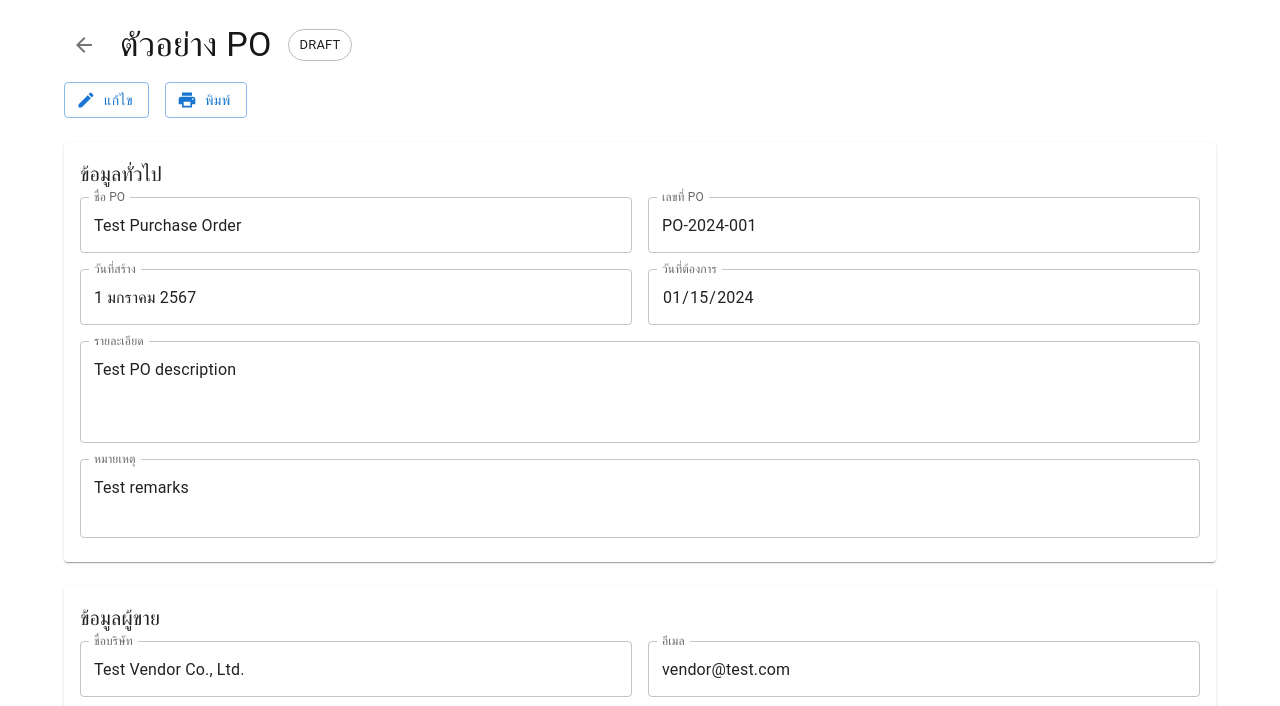
Scenario: POEditPreview Component › Edit Functionality › cancels edit mode and resets form
// Enter edit mode
Click the button "แก้ไข". click: (106,100)
box: [64,82,149,118]
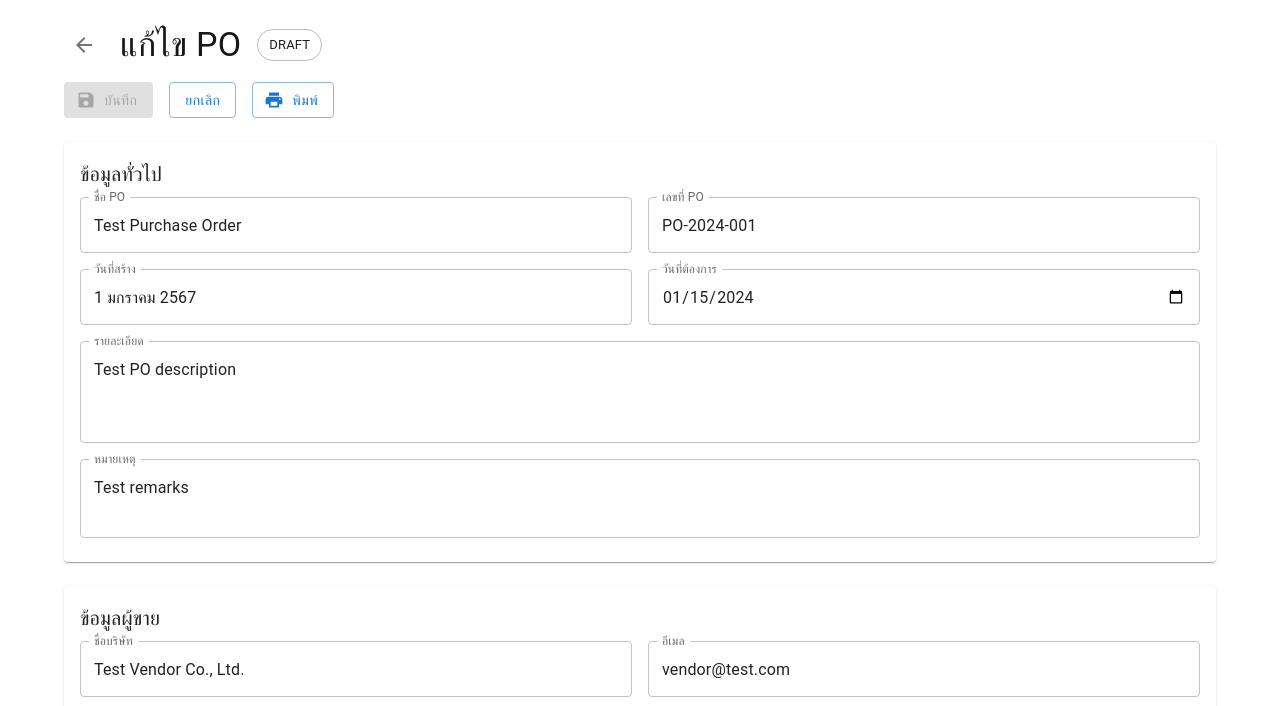
// Modify a field
Replace the text in the field showing "Test Purchase Order" with "Modified Title". click: (356,226)
box: [80,198,632,254]
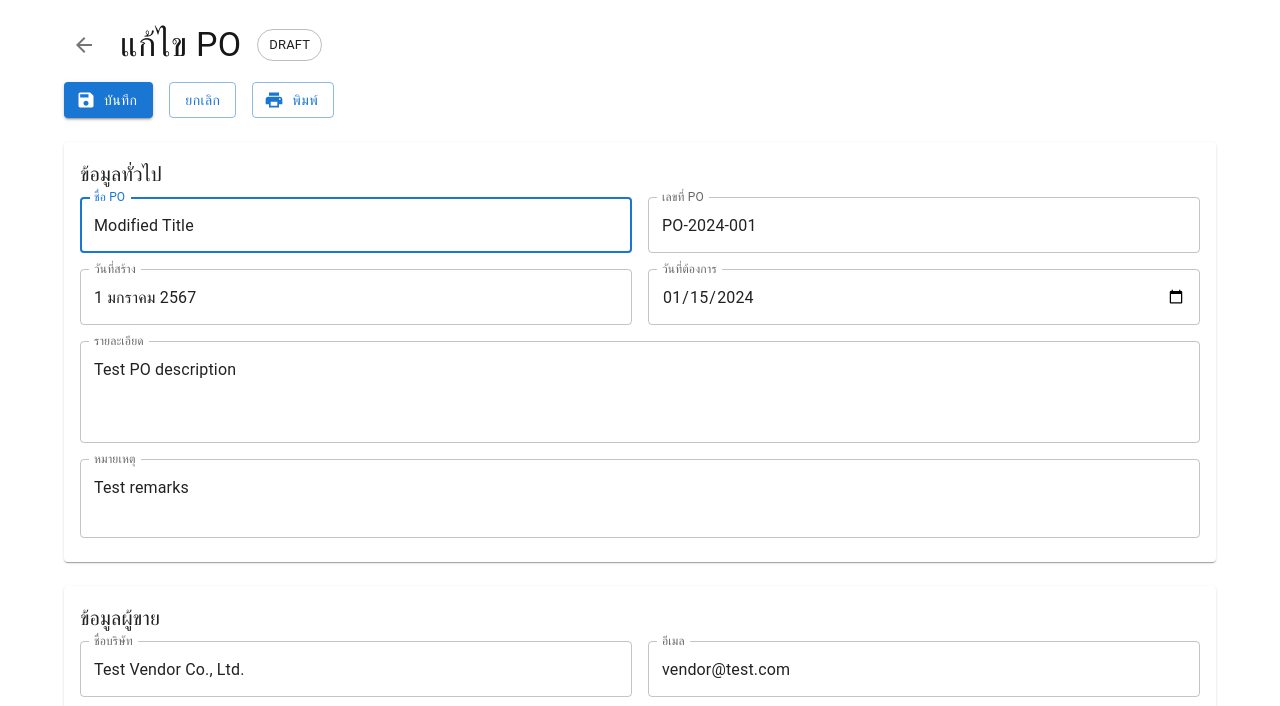
Click the button "ยกเลิก". click: (203,100)
box: [169,82,236,118]
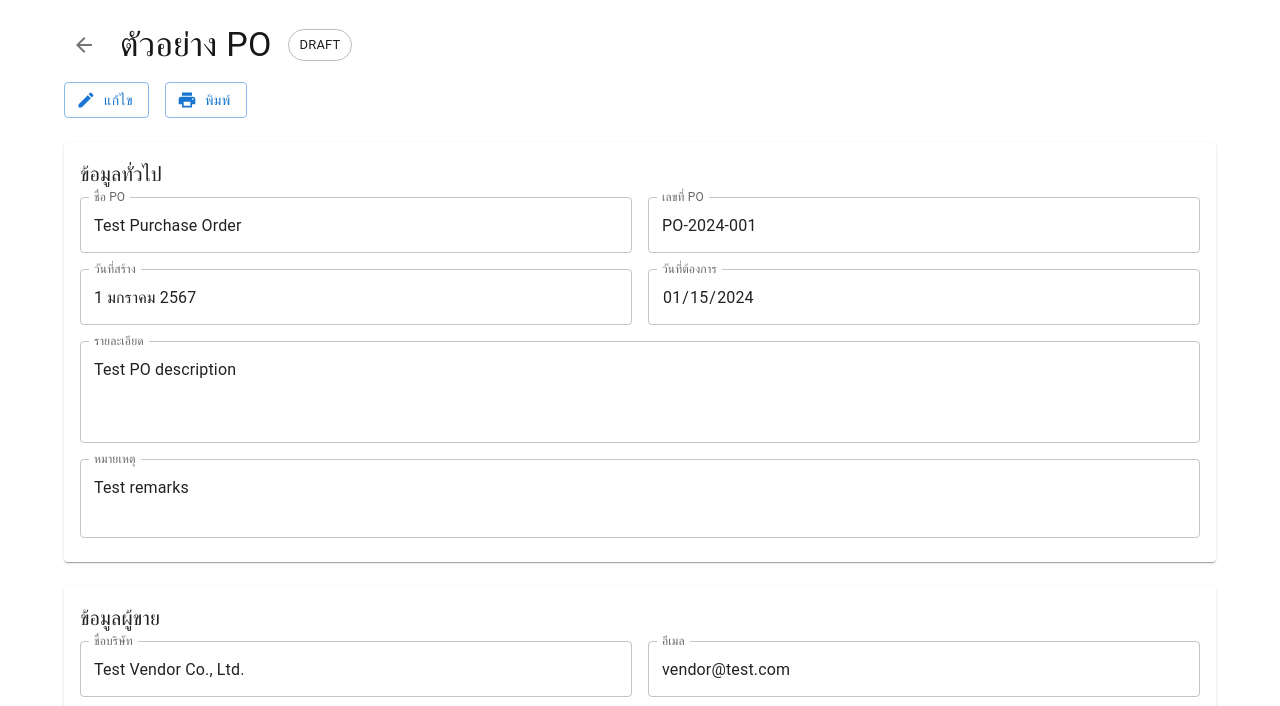
Expected: the heading "ตัวอย่าง PO" is shown, [120,24,272,66]
Expected: the field showing "Test Purchase Order" is shown, [80,198,632,254]
